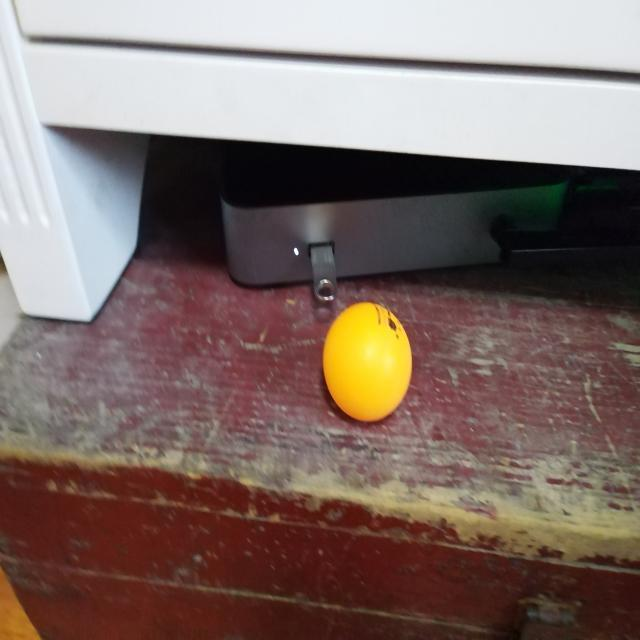oball: (323, 302, 411, 422)
